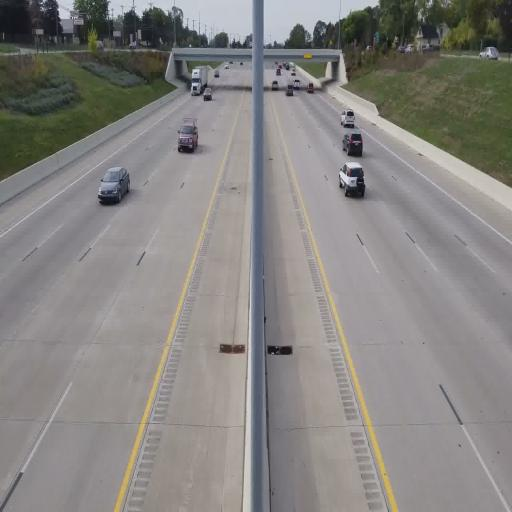Car: (98, 165, 130, 205), (339, 161, 366, 198), (342, 132, 363, 156), (340, 108, 355, 128)
Truck: (177, 117, 199, 153), (191, 66, 209, 95)
